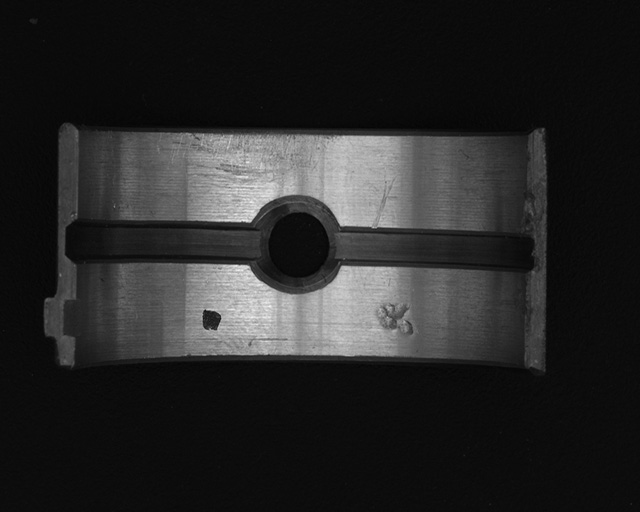blot: (201, 309, 222, 331)
bruise: (375, 303, 415, 336)
gap: (330, 225, 536, 277), (65, 219, 261, 265)
hole: (252, 198, 342, 292)
nick: (370, 169, 397, 229)
scratch: (154, 129, 338, 191)
